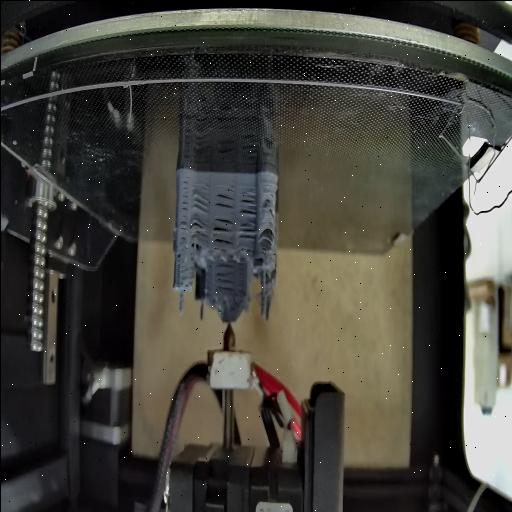cracks: (236, 189, 256, 239), (214, 258, 236, 294), (178, 174, 188, 244), (212, 216, 234, 246), (214, 184, 234, 210), (189, 216, 207, 238), (190, 191, 208, 213), (261, 228, 279, 248), (263, 196, 275, 220), (175, 250, 181, 266)
